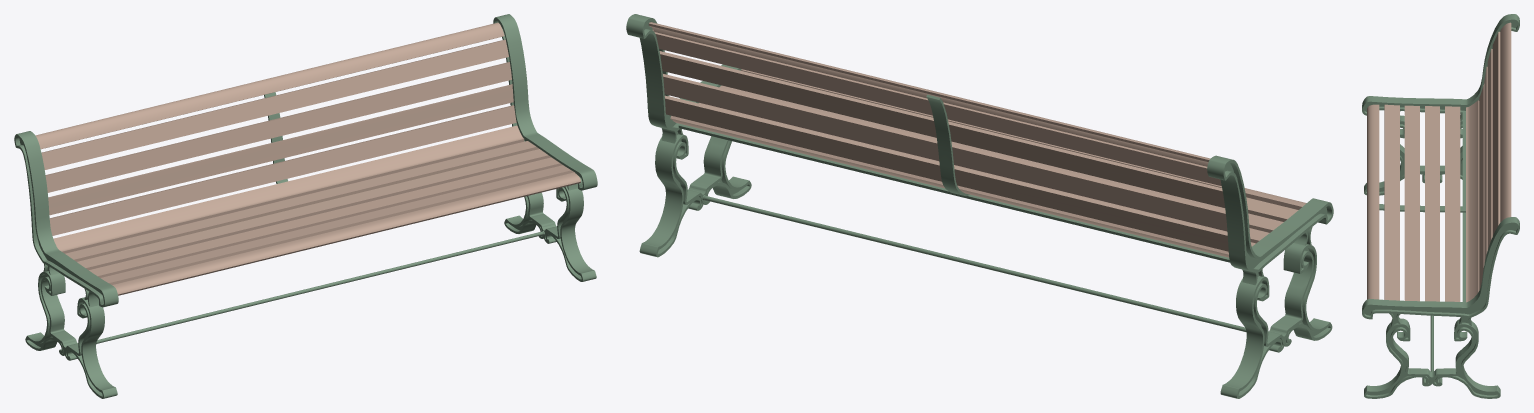
File: 981_garden_bench_without_armrest.glb
3 renders of one model, left to right at view 1: azimuth 30°, elevation 25°; view 2: azimuth 150°, elevation 25°; view 3: azimuth 270°, elevation 25°, orthographic. The views are drawn at different scales.
Parts seen in each view (by area): view 1: Body; view 2: Body; view 3: Body.
Boxes of the visible parts, left/top/right/bottom form: Body: left=14, top=14, right=597, bottom=398; Body: left=626, top=14, right=1333, bottom=398; Body: left=1362, top=14, right=1519, bottom=398.
Bounding box in the file's own units: 1.82 × 0.717 × 0.5813.
